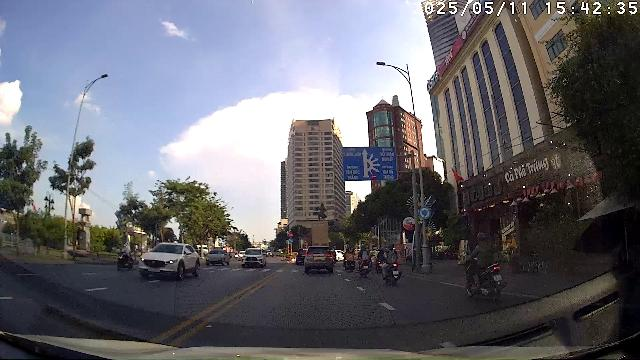303-noi-giao-nhau-chay-theo-vong-xuyen: (418, 206, 432, 219)
